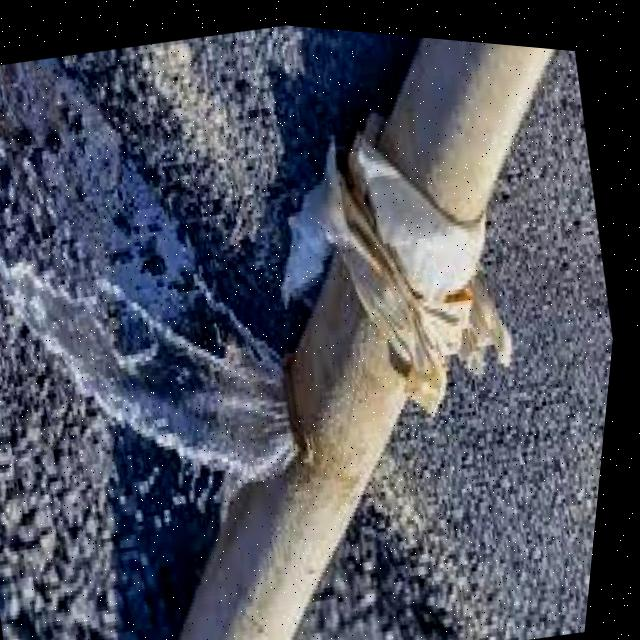corrosion: (207, 220, 475, 483)
